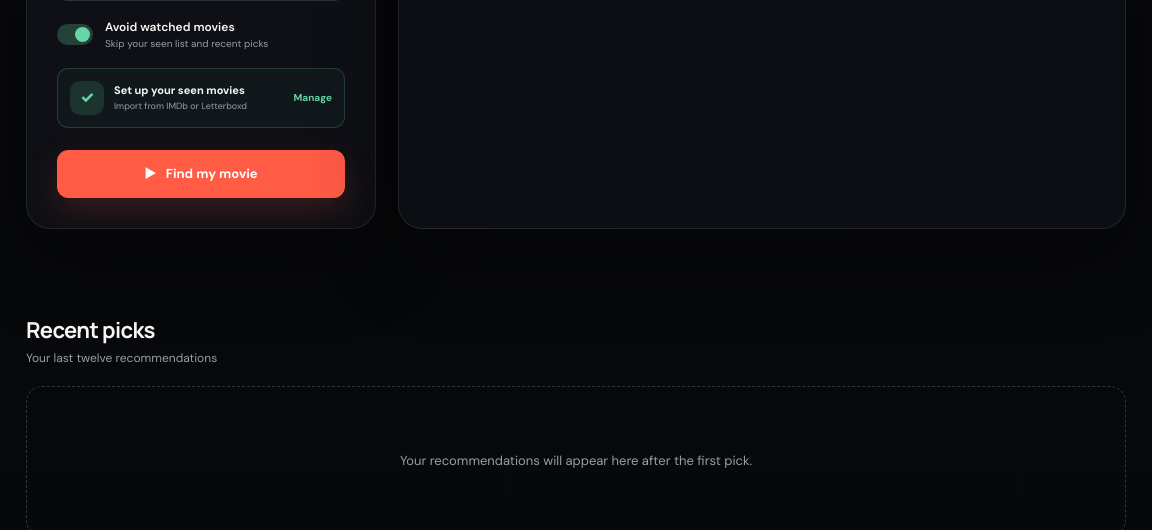
Test: sends the current movie as an exclusion when spinning again
(page scrolled)
Click the button "▶ Find my movie": (201,174) [57,150,345,198]
(page scrolled)
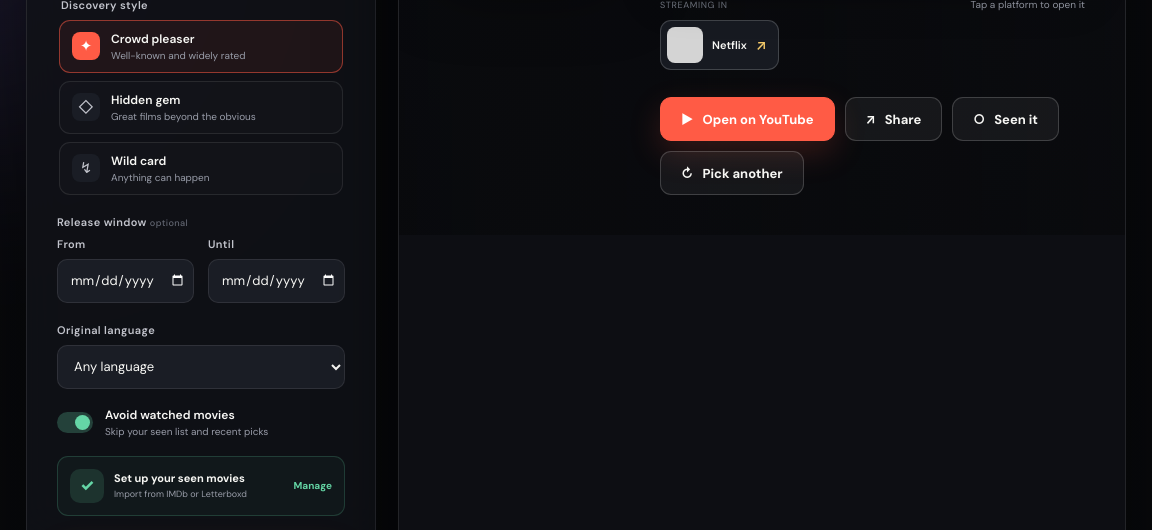
Click the button "↻ Pick another": (732,173) [660,151,804,195]
(page scrolled)
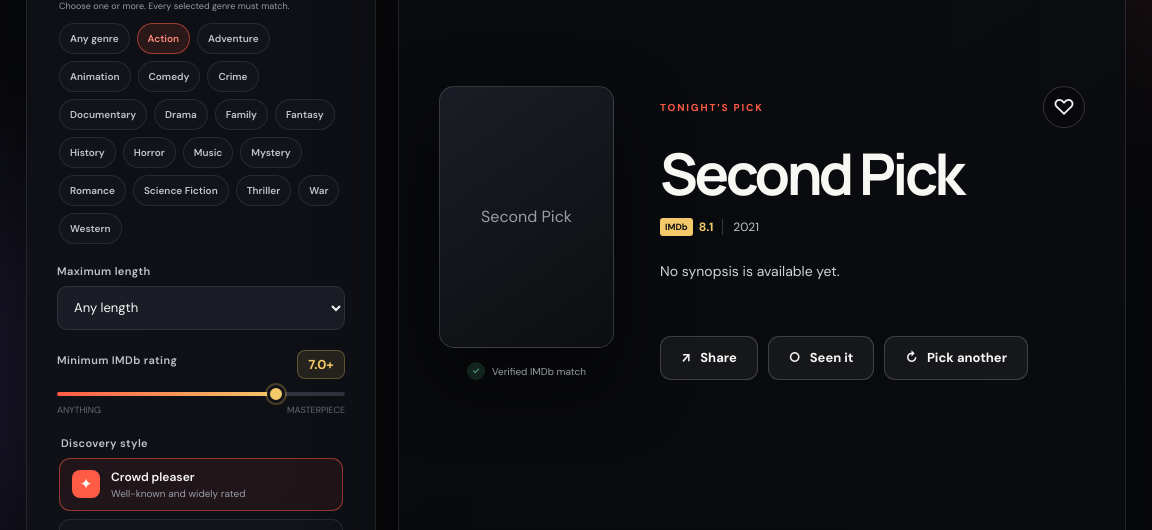
expect the heading "Second Pick" is shown: met, box [660,134,962,212]
